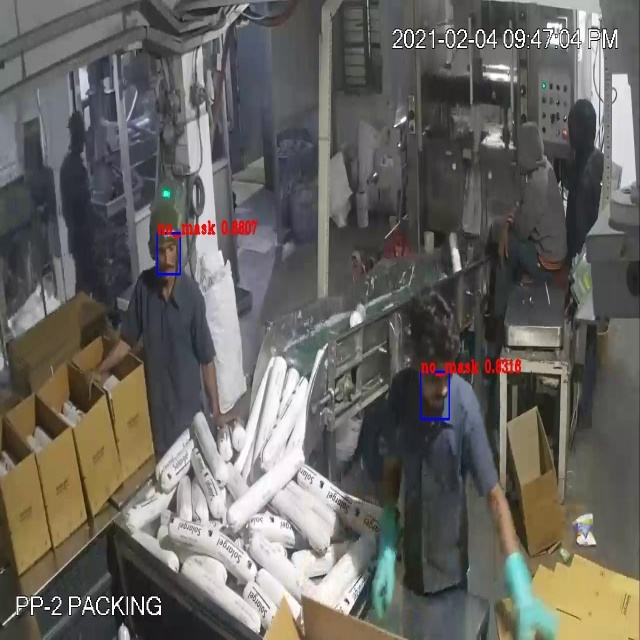Guantes: (484, 488, 572, 640), (356, 484, 419, 640)
Sin_guantes: (58, 322, 147, 404), (195, 332, 224, 446)
